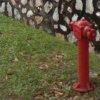a fire hydrant: (69, 18, 99, 91)
